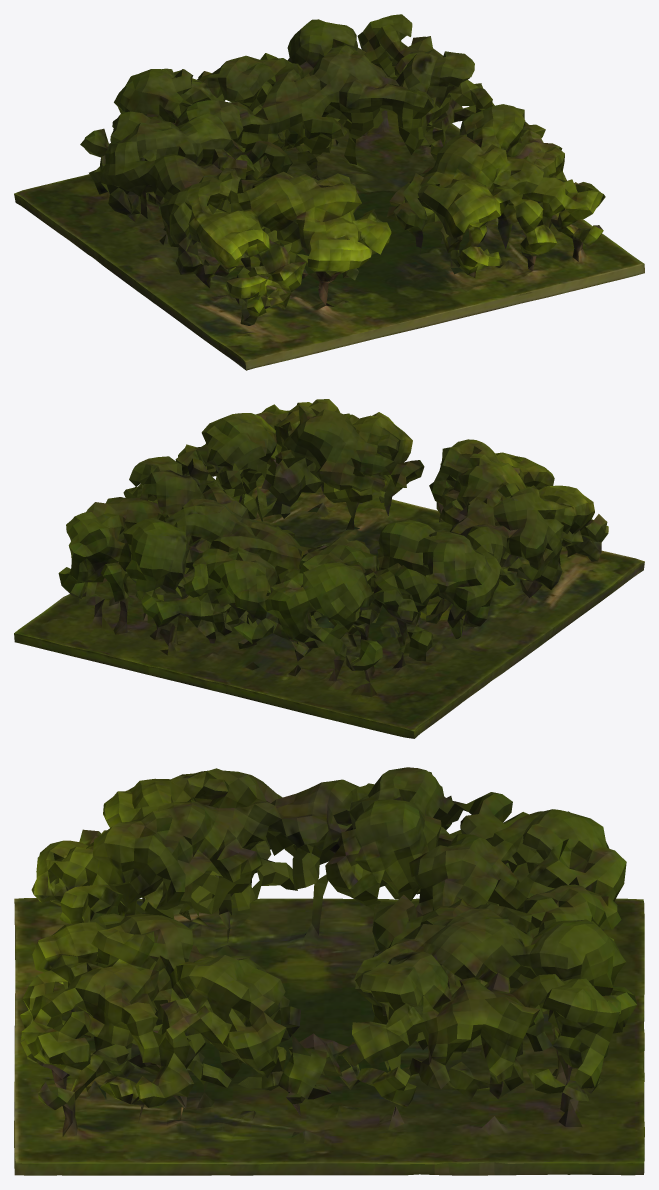
File: Meshy_AI_the_ground_and_floor__0221052258_texture.glb
The picture shows the model from 3 angles, top to bottom: view 1: azimuth 30°, elevation 25°; view 2: azimuth 150°, elevation 25°; view 3: azimuth 270°, elevation 25°; orthographic projection. The views are drawn at different scales.
Visible parts, largest first — view 1: output; view 2: output; view 3: output.
Part boxes in pixels (<box>): output: <box>14,14,644,370</box>; output: <box>14,399,644,738</box>; output: <box>14,767,644,1175</box>.
Bounding box in the file's own units: 1.99 × 0.612 × 2.
1 material, 1 textured.
